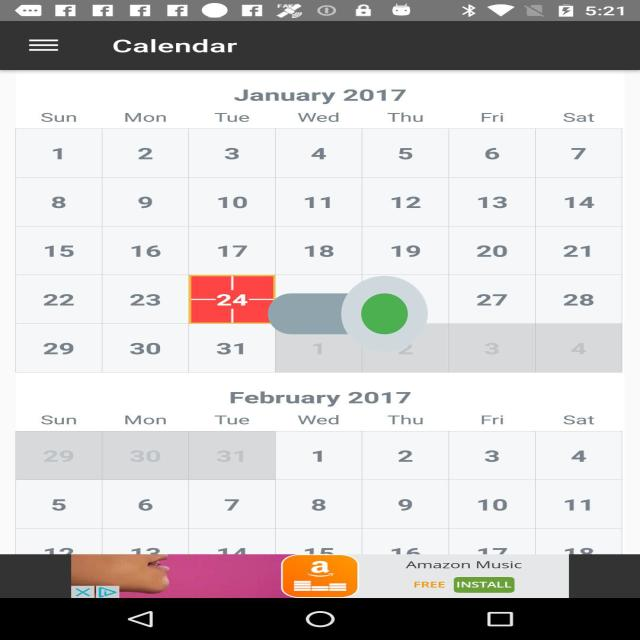social proof: (268, 244, 428, 384)
